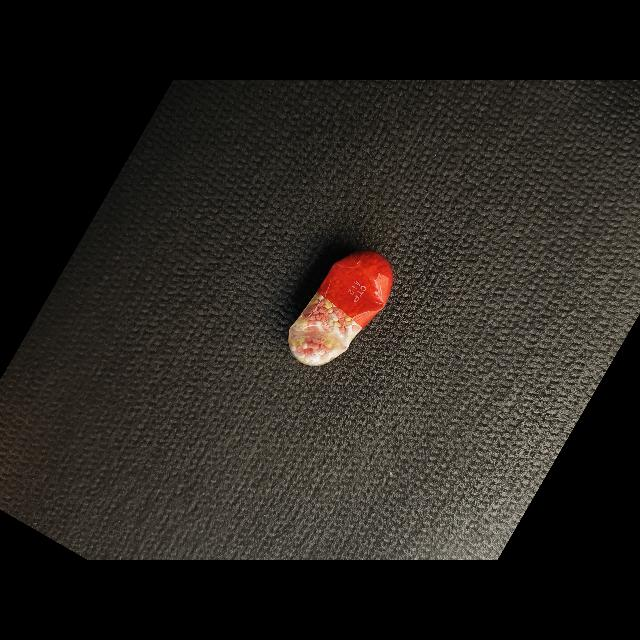Defective Capsule: (289, 251, 393, 366)
